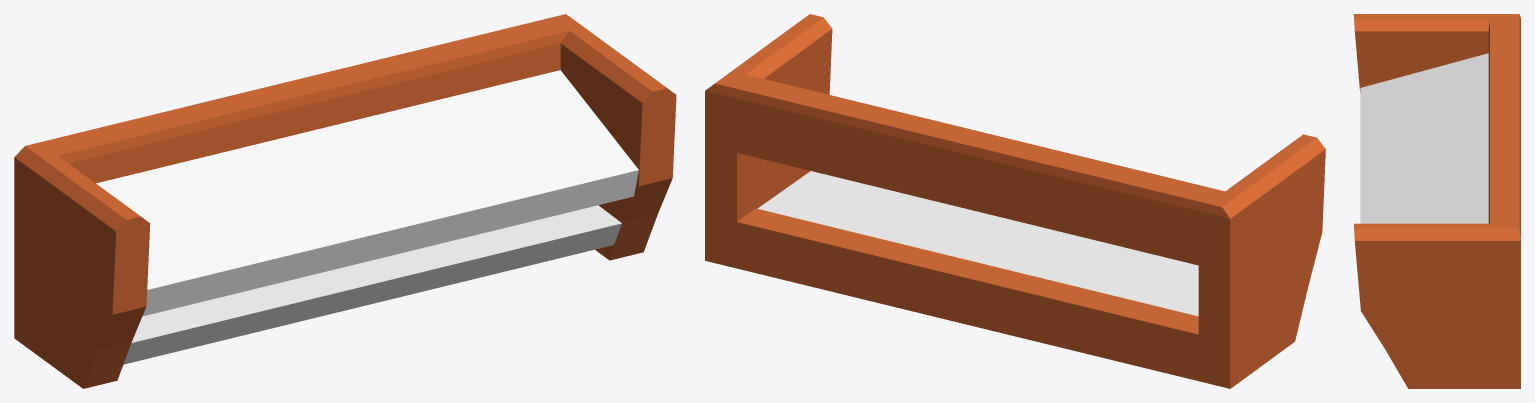
The model's file is WingsKart4.fbx.
3 views of the same model, side by side, from view 1: azimuth 30°, elevation 25°; view 2: azimuth 150°, elevation 25°; view 3: azimuth 270°, elevation 25° (orthographic). The views are drawn at different scales.
Visible parts, largest first — view 1: WingsKart4; view 2: WingsKart4; view 3: WingsKart4.
Boxes of the visible parts, x1,y1,x2,y2 form: WingsKart4: (14,14,676,388); WingsKart4: (705,14,1325,388); WingsKart4: (1354,14,1520,388).
Size of the model in its own units: 536 by 175 by 169.
